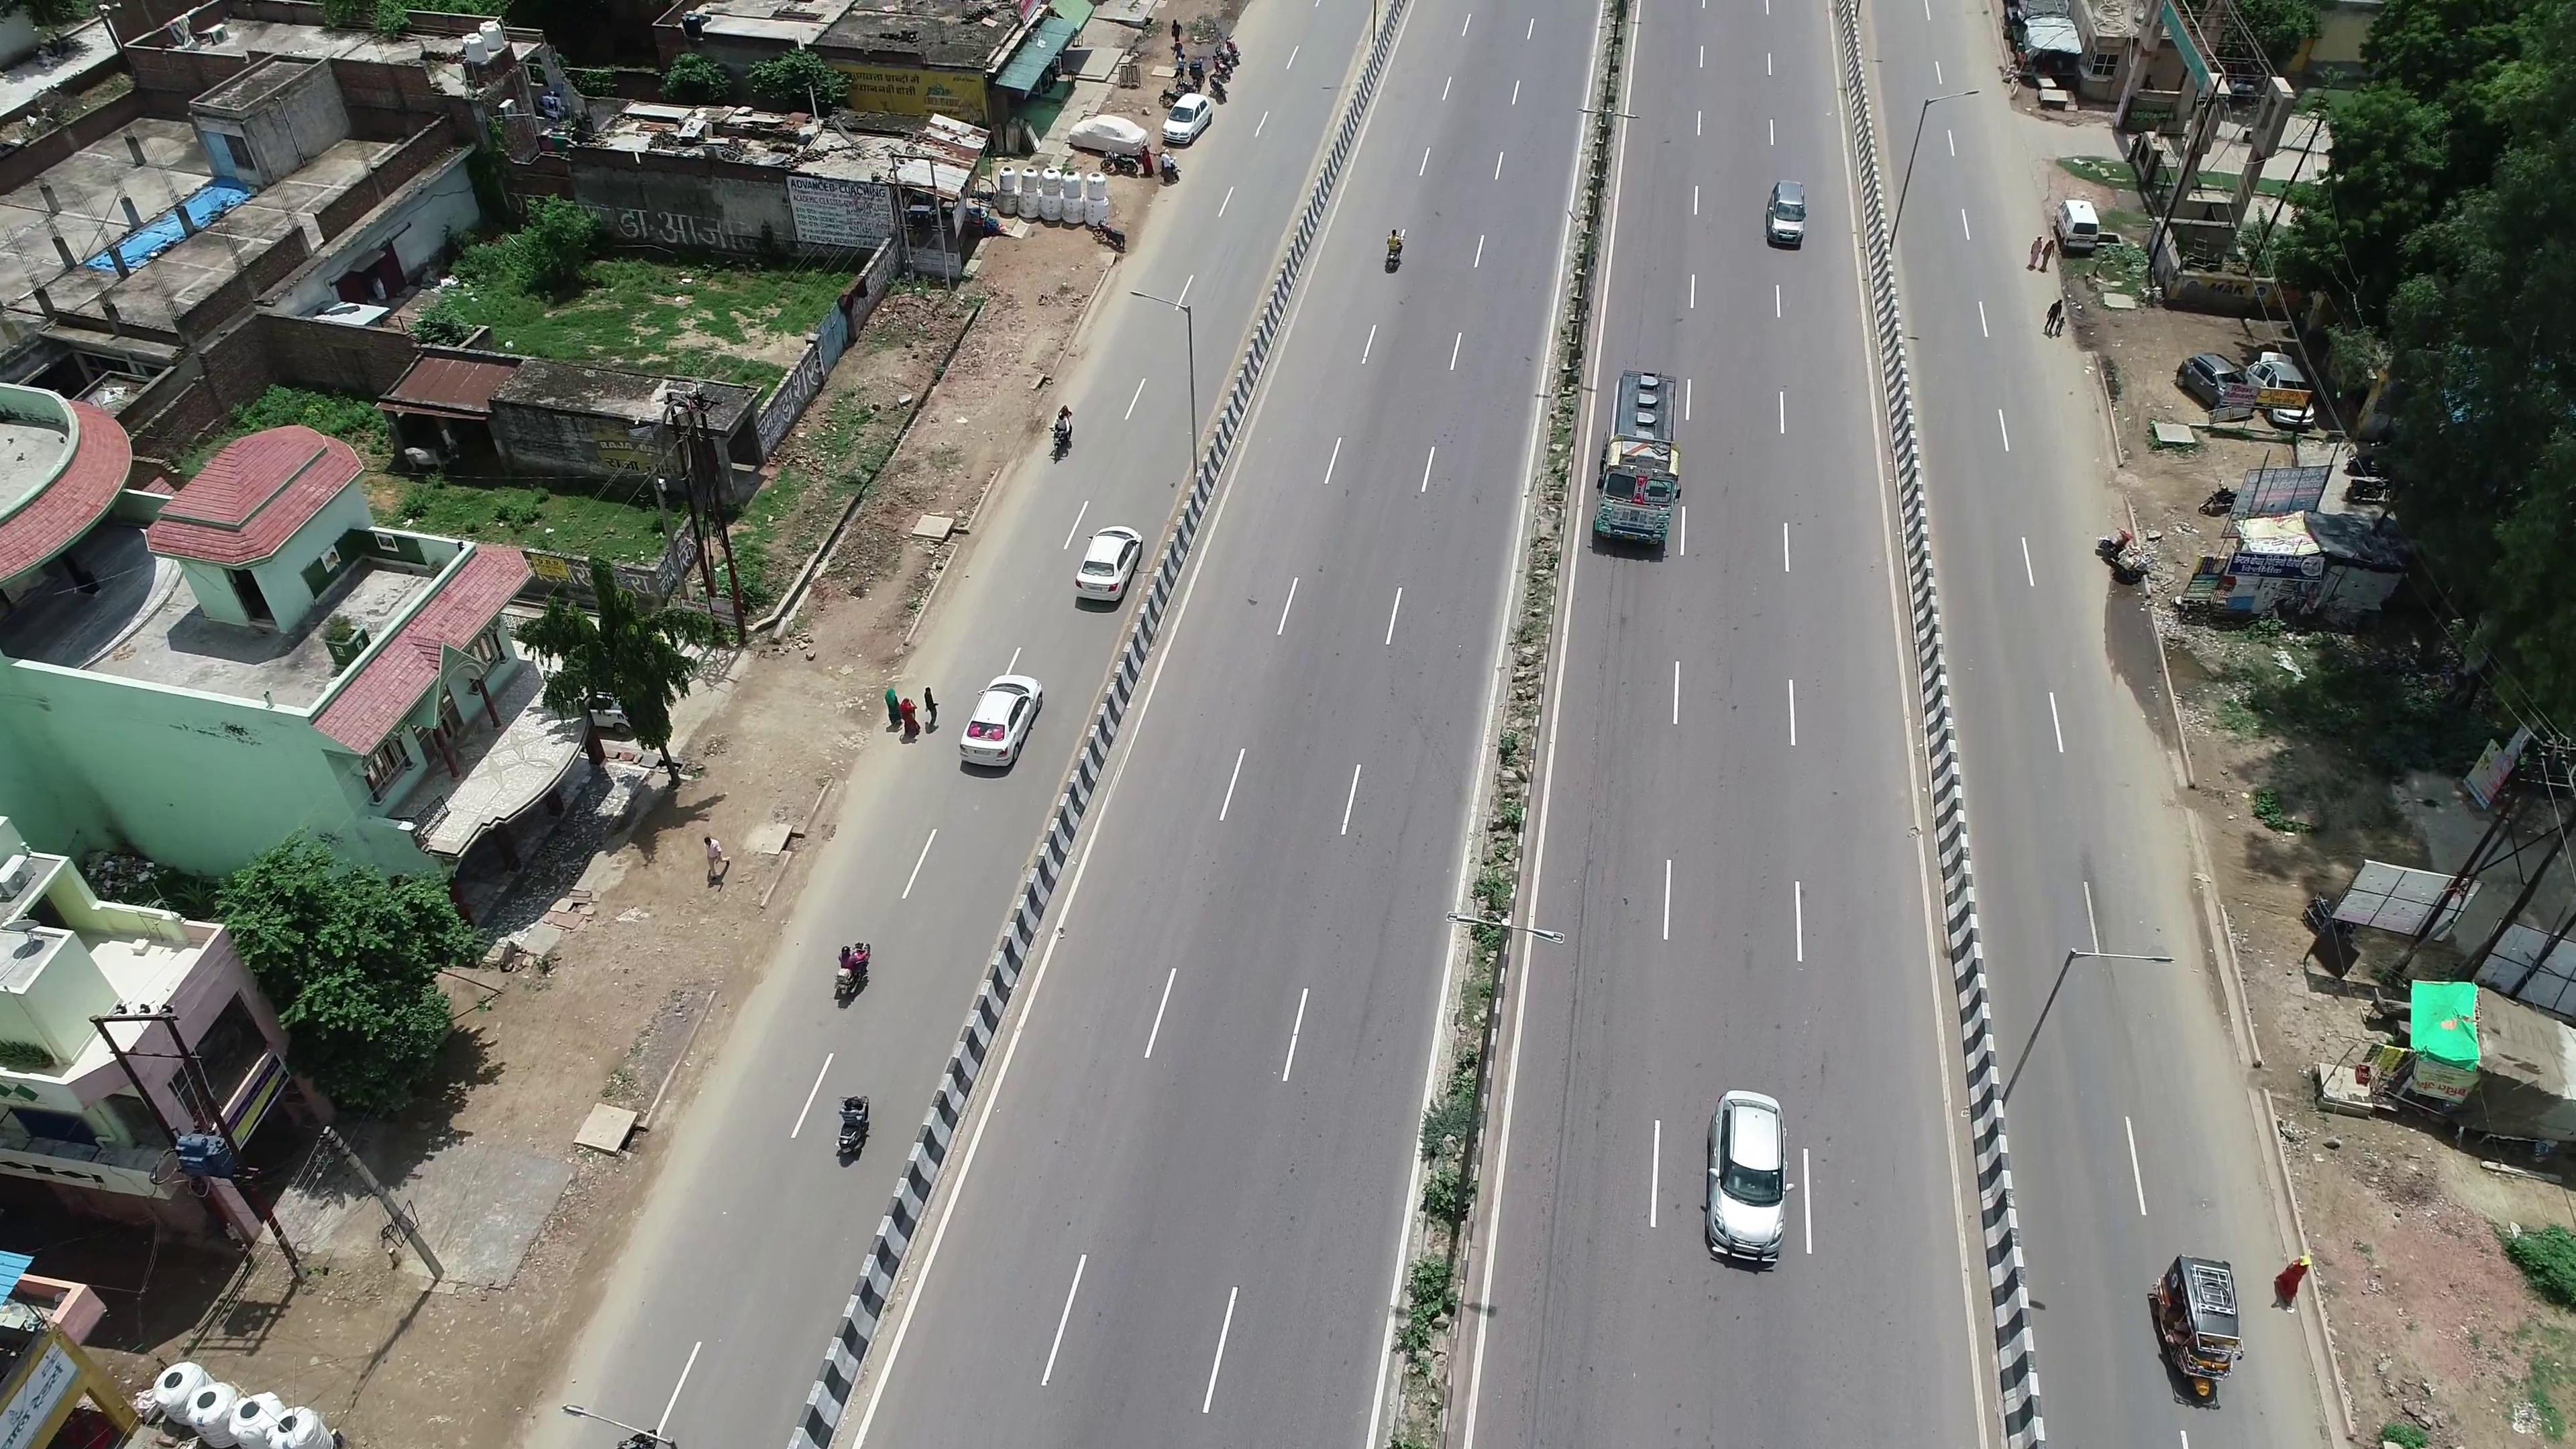Longitudinal_cracks: (1532, 830, 1603, 1329)
